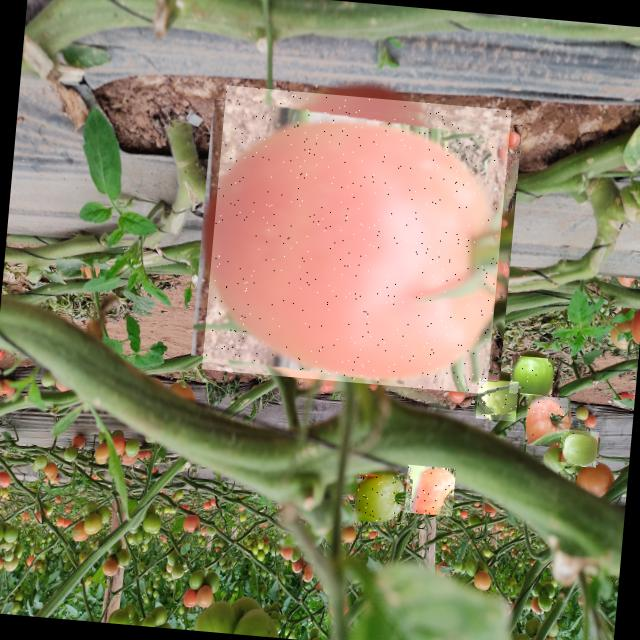Ripe Tomato: (201, 85, 511, 394), (404, 464, 456, 516), (523, 393, 570, 448)
Unripe Tomato: (354, 471, 410, 527), (508, 354, 554, 396), (475, 378, 518, 421), (560, 428, 598, 468)
